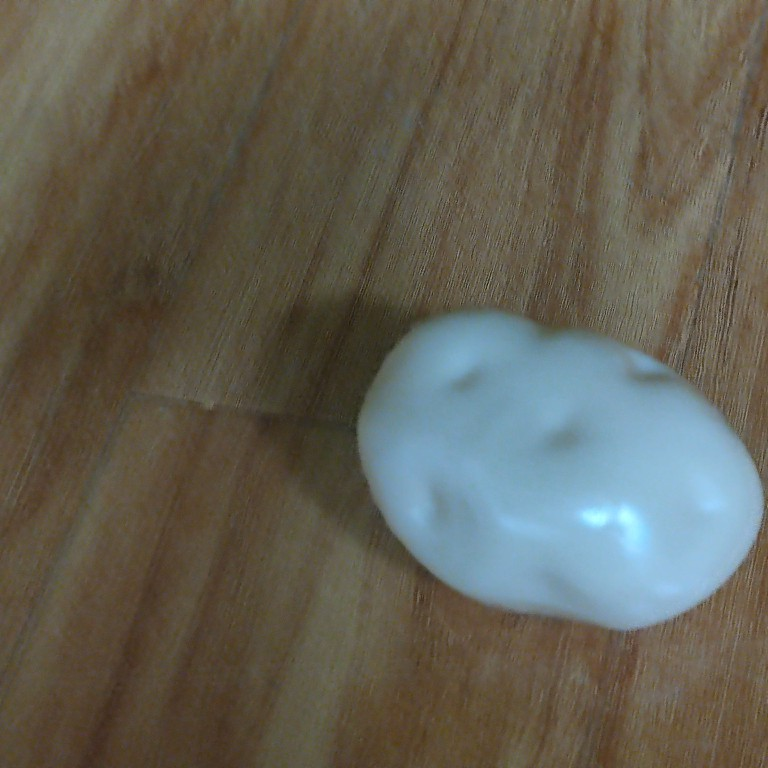fruit_potato: (349, 298, 768, 643)
